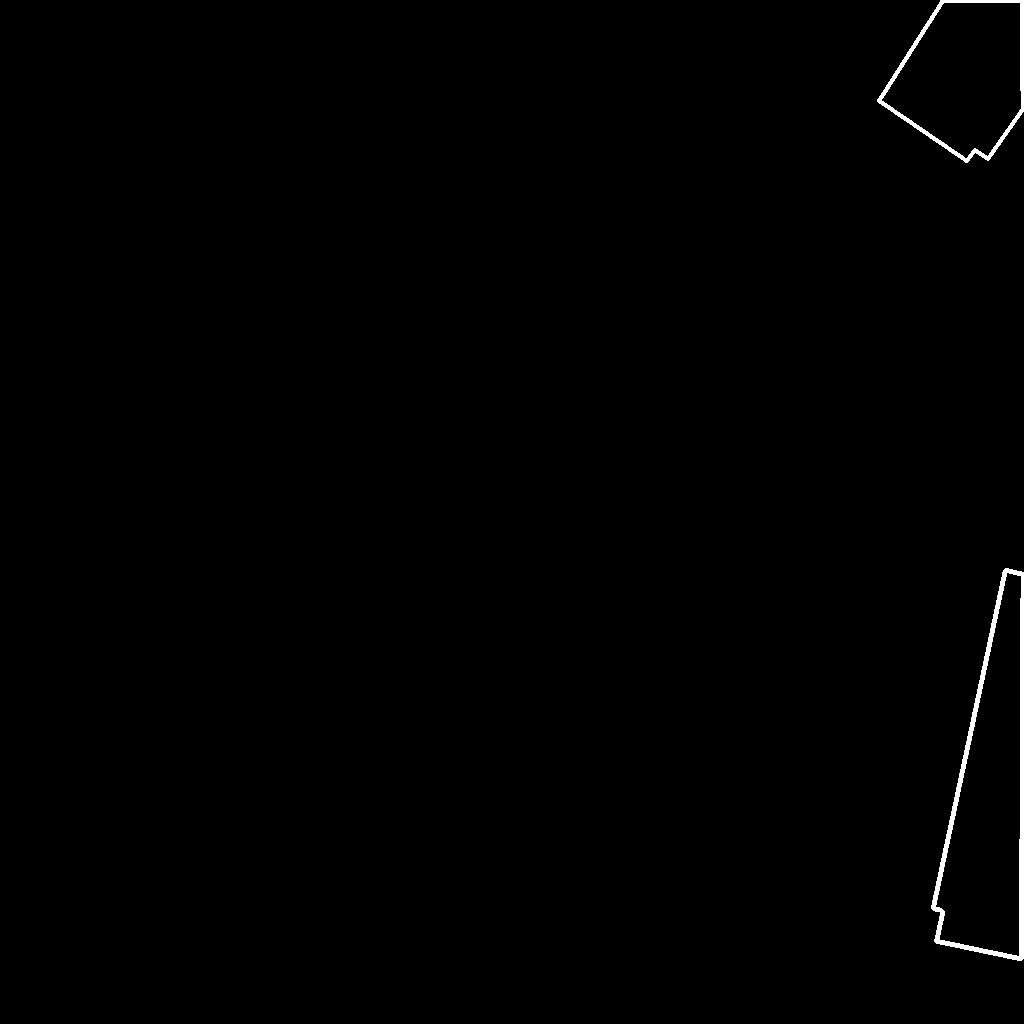building: (933, 570, 1024, 960), (879, 0, 1024, 162)
